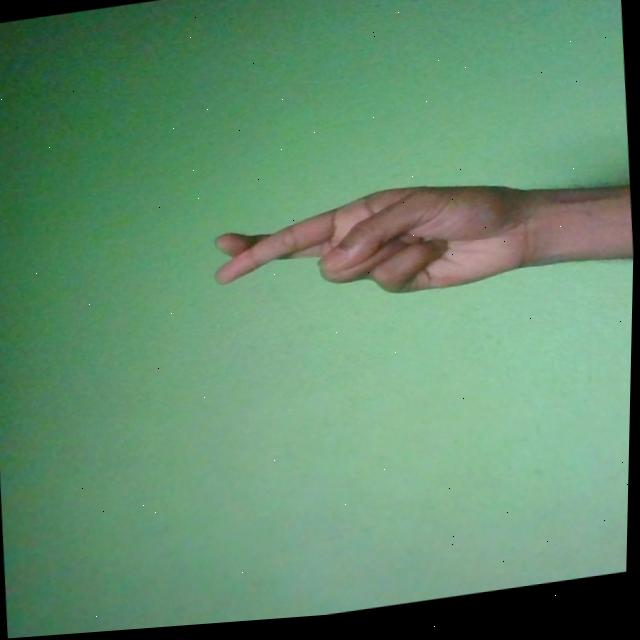Good Luck: (210, 175, 543, 323)
